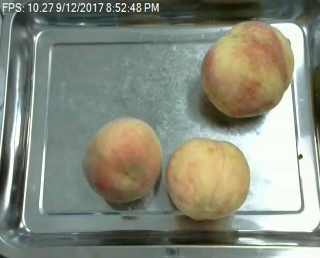Peach: (201, 20, 294, 117), (166, 137, 250, 220), (84, 117, 163, 204)
